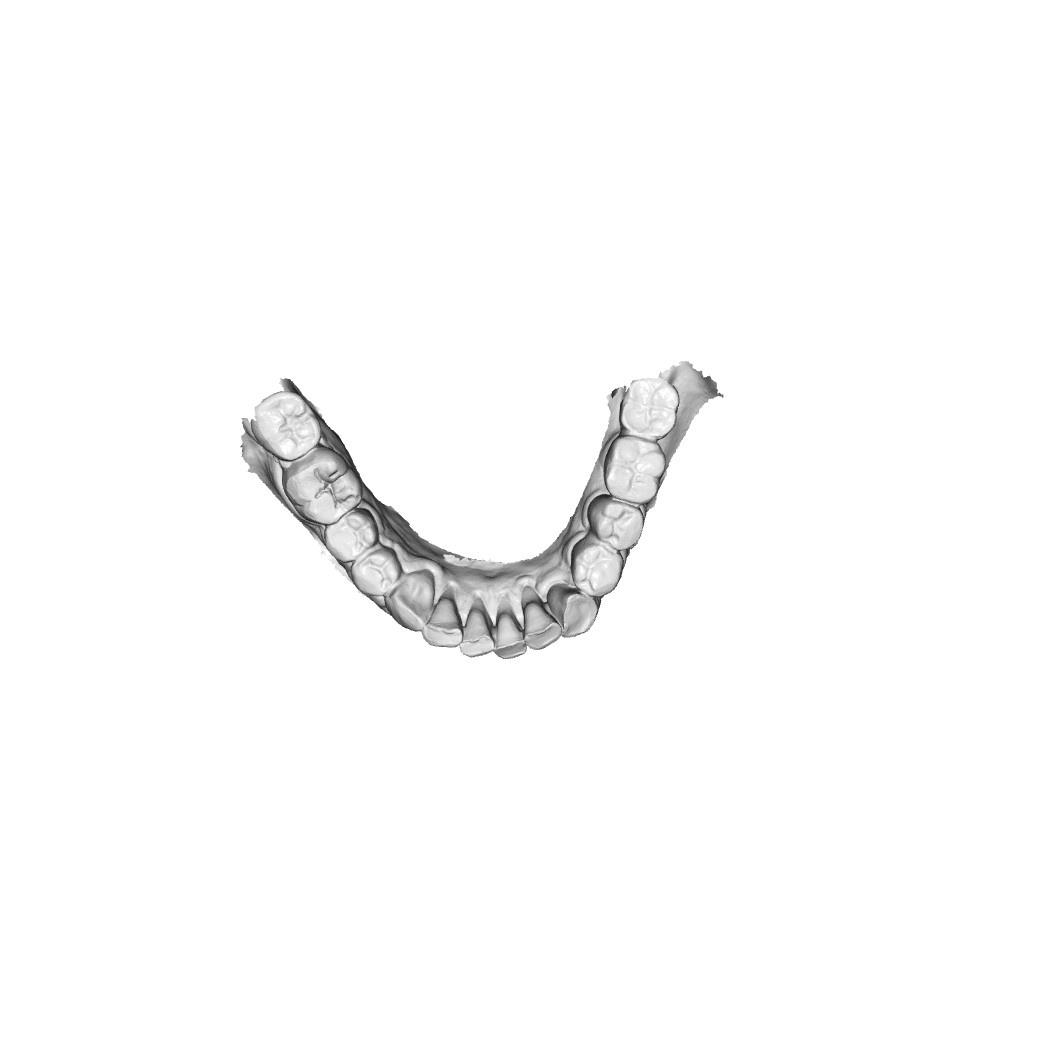canine: (387, 573, 429, 631), (552, 588, 594, 633)
incisor: (522, 587, 560, 649), (424, 593, 460, 643), (495, 601, 527, 654), (465, 596, 495, 651)
molar: (291, 452, 357, 522), (259, 393, 318, 460), (606, 436, 659, 502), (623, 379, 677, 433)
premolar: (321, 511, 374, 563), (575, 537, 623, 592), (595, 497, 647, 547), (355, 550, 401, 594)
